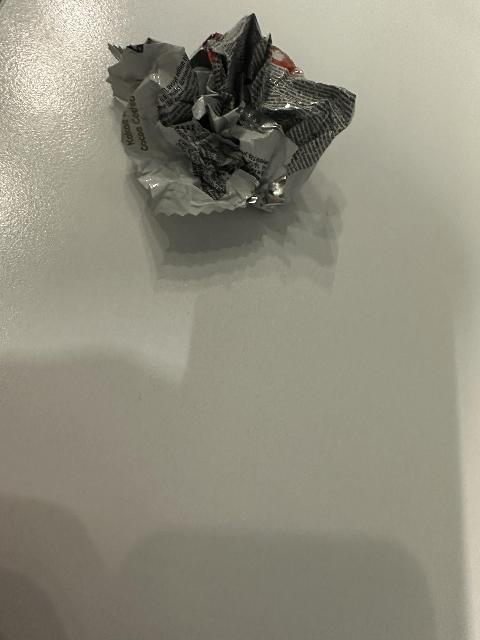Plastik: (108, 22, 367, 221)
